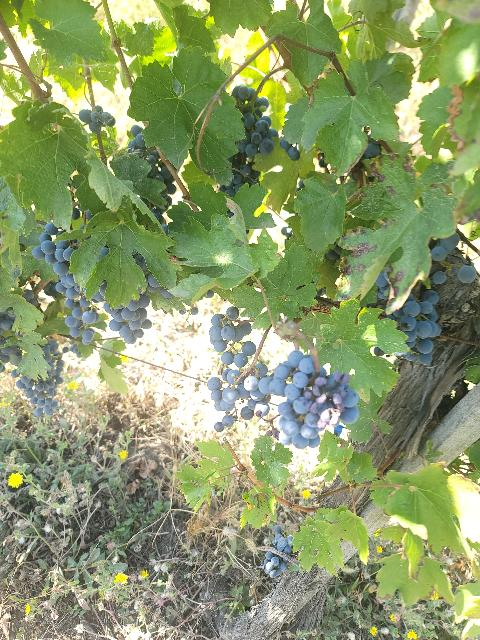grapes: (268, 350, 359, 449), (32, 222, 99, 344), (220, 85, 279, 198), (208, 362, 268, 431), (16, 340, 65, 418), (209, 306, 256, 368), (262, 525, 292, 579)
